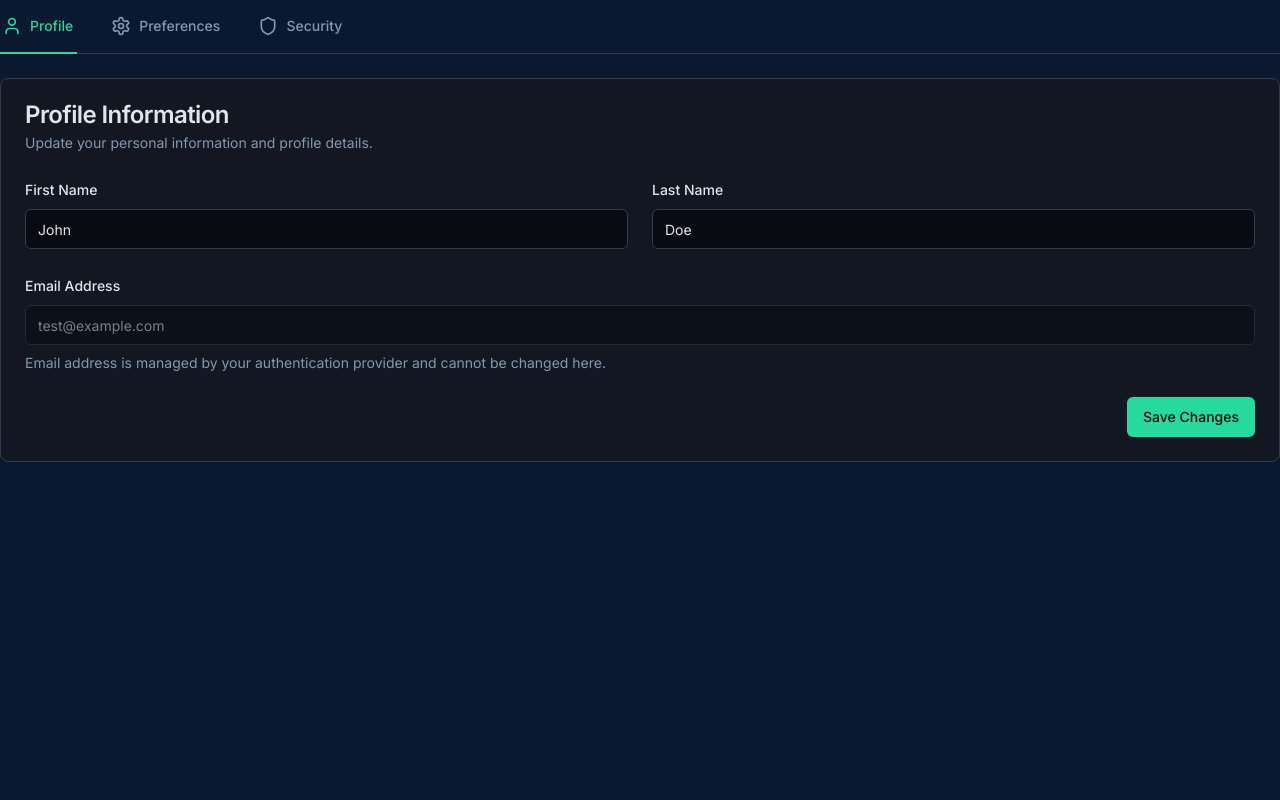
it: UserProfile › Preferences Form › submits preferences update successfully
Click the tab "Preferences".
click(167, 27)  # box [109,0,224,54]
(page scrolled)
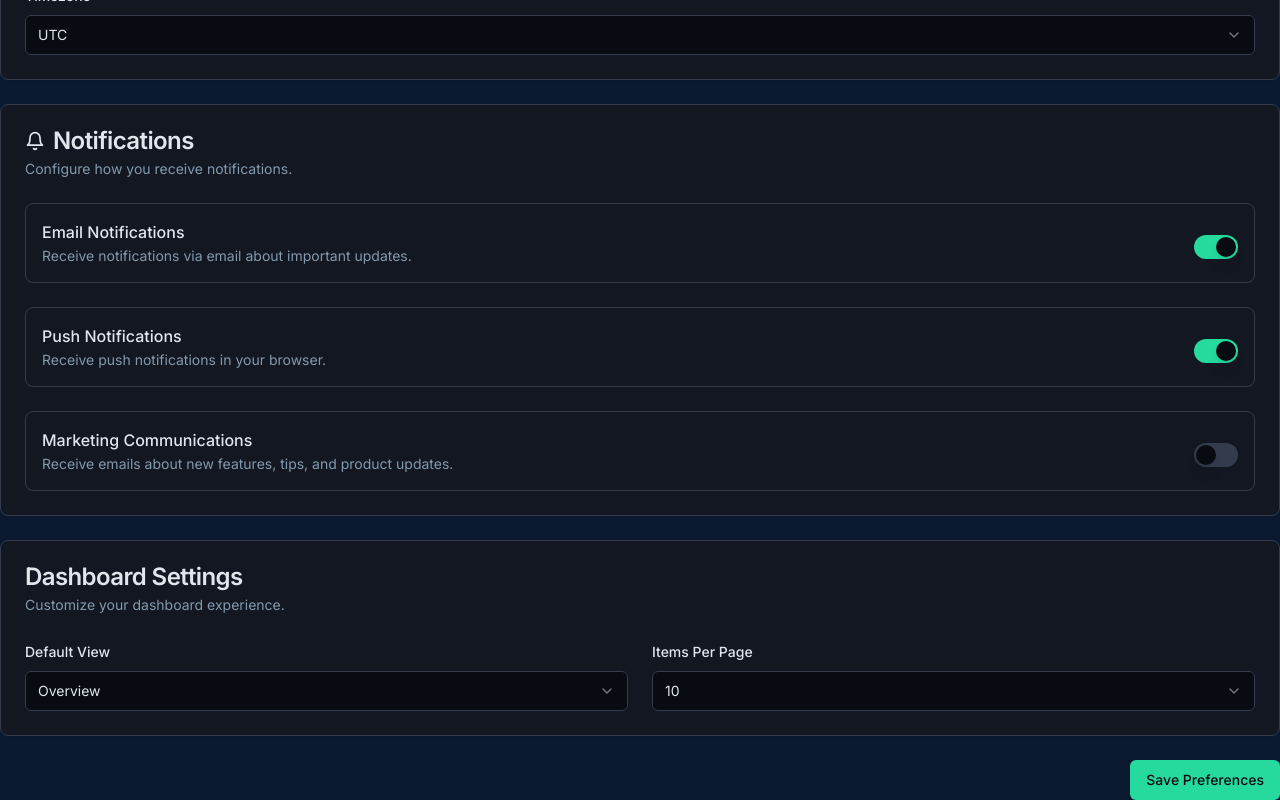
Click the button "Save Preferences".
click(1205, 780)  # box [1130,760,1279,799]
(page scrolled)
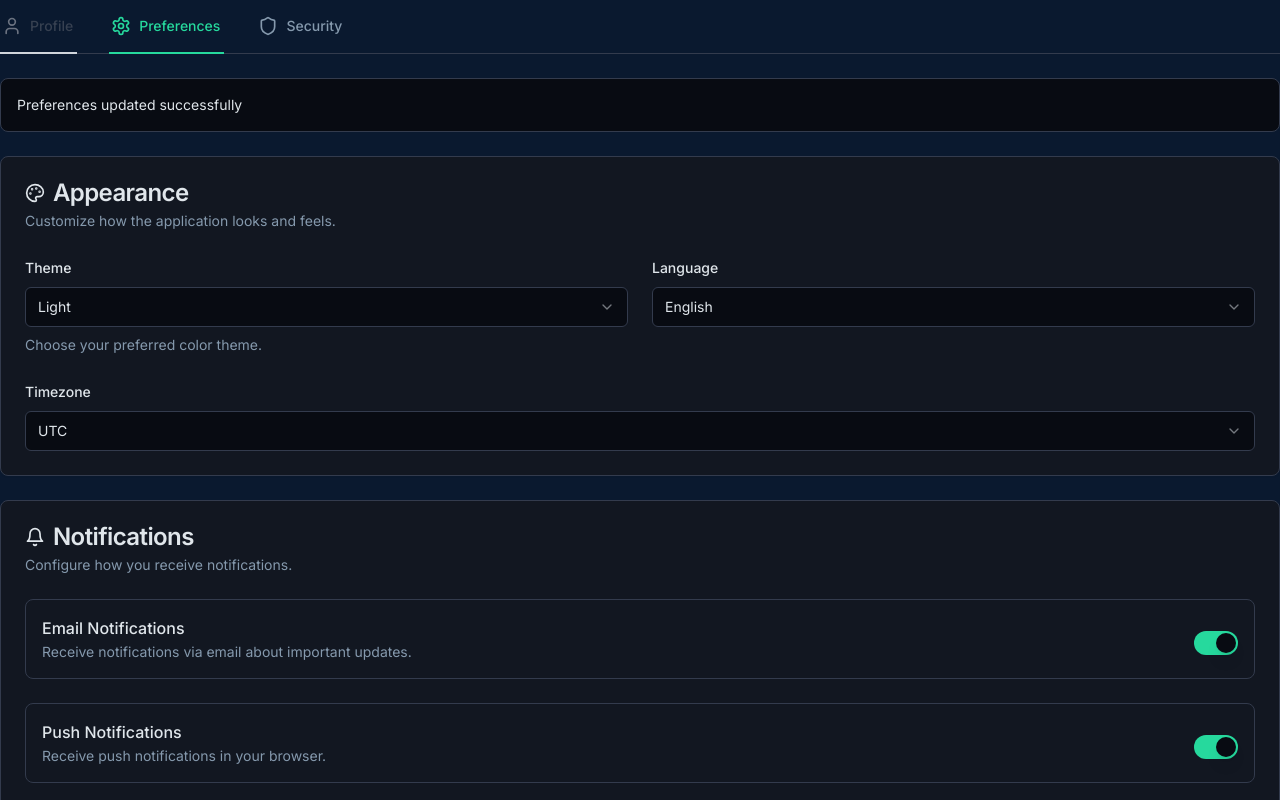
Now the text "Preferences updated successfully" is shown, box [17,96,242,113]
